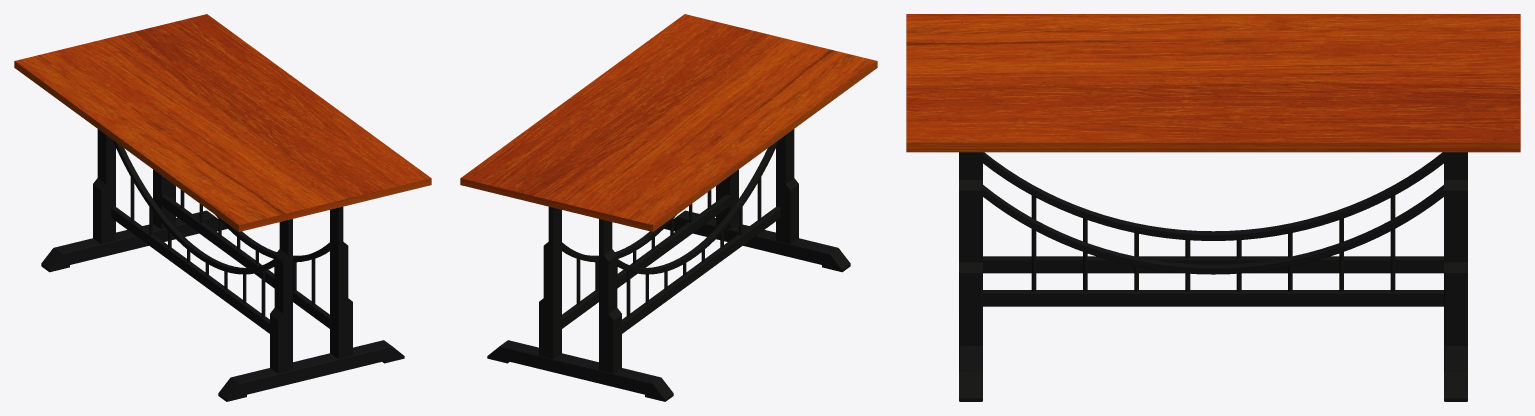
3 renders of one model, left to right at view 1: azimuth 30°, elevation 25°; view 2: azimuth 150°, elevation 25°; view 3: azimuth 270°, elevation 25°, orthographic. The views are drawn at different scales.
Visible parts, largest first — view 1: Cube, TOWEMOST_; view 2: Cube, TOWEMOST_; view 3: Cube, TOWEMOST_.
Part boxes in pixels (bbox=[...]): Cube: bbox=[14, 14, 431, 231]; TOWEMOST_: bbox=[41, 129, 404, 401]; Cube: bbox=[460, 14, 877, 231]; TOWEMOST_: bbox=[487, 129, 850, 401]; Cube: bbox=[906, 14, 1520, 152]; TOWEMOST_: bbox=[959, 152, 1467, 401].
Bounding box in the file's own units: 182 × 174 × 366.
